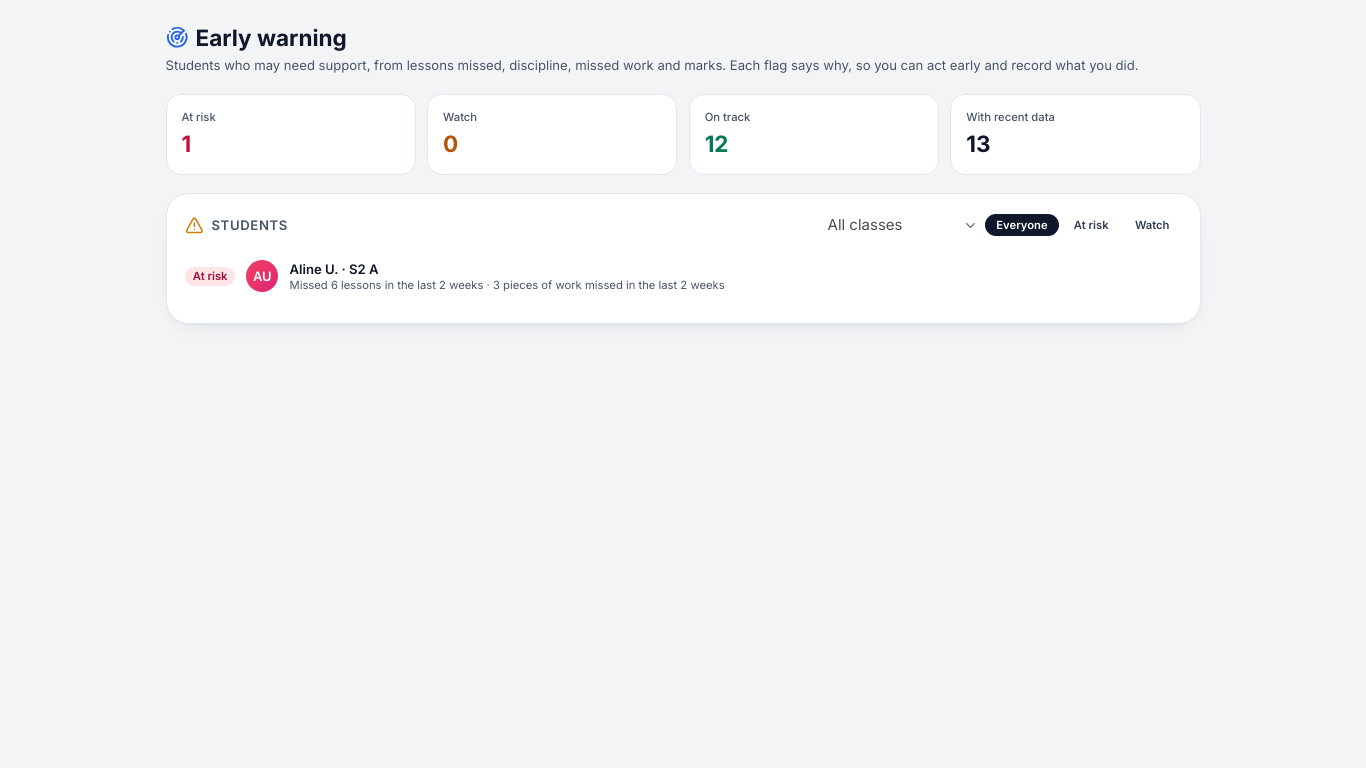
it: Early warning page › lists students with reasons, filters, opens one and records an action
This screenshot has width=1366, height=768.
Check: the list with test id "ew-rows" shows "Aline U. · S2 A", box [185,248,1181,305]
Check: the list with test id "ew-rows" shows "Missed 6 lessons in the last 2 weeks", box [185,248,1181,305]
Click the tab "At risk" at (1091,225), box [1063,214,1120,236]
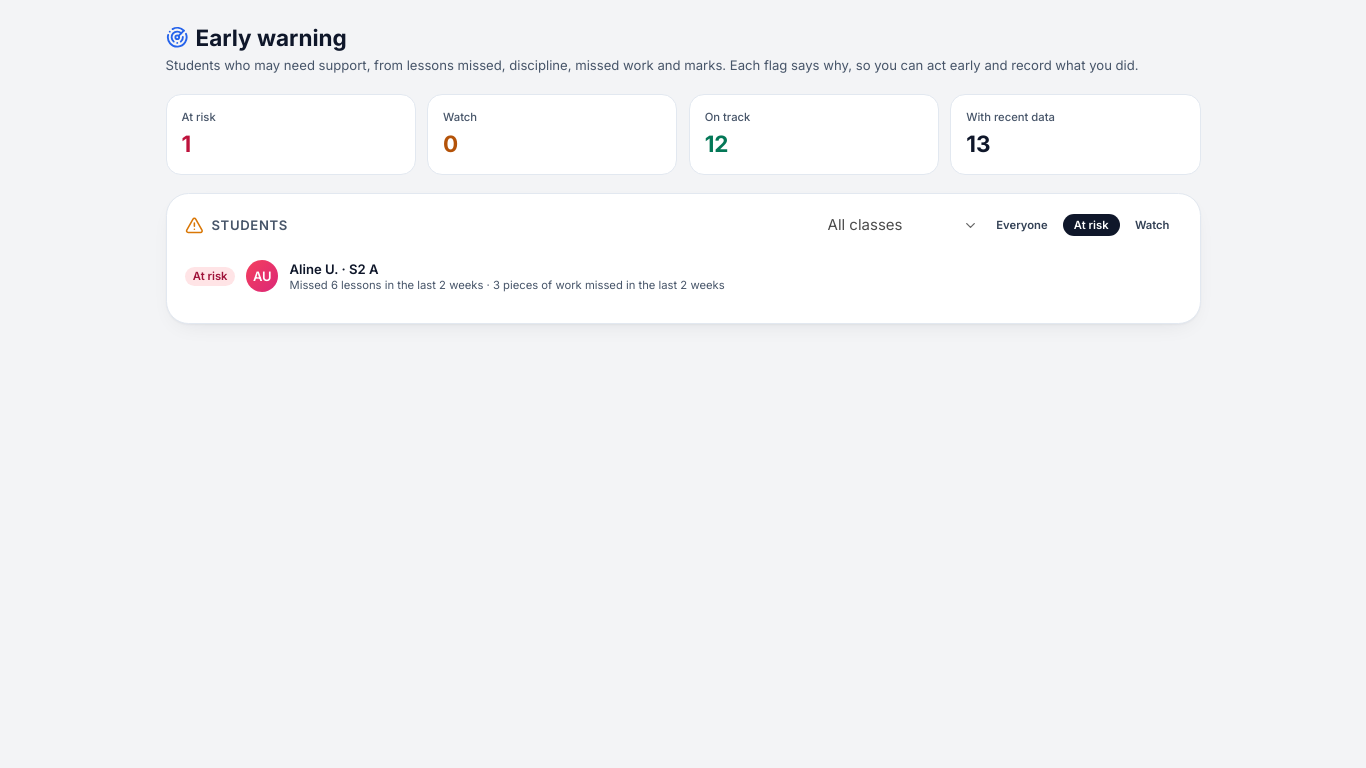
Click the button at (683,276), box [185,248,1181,305]
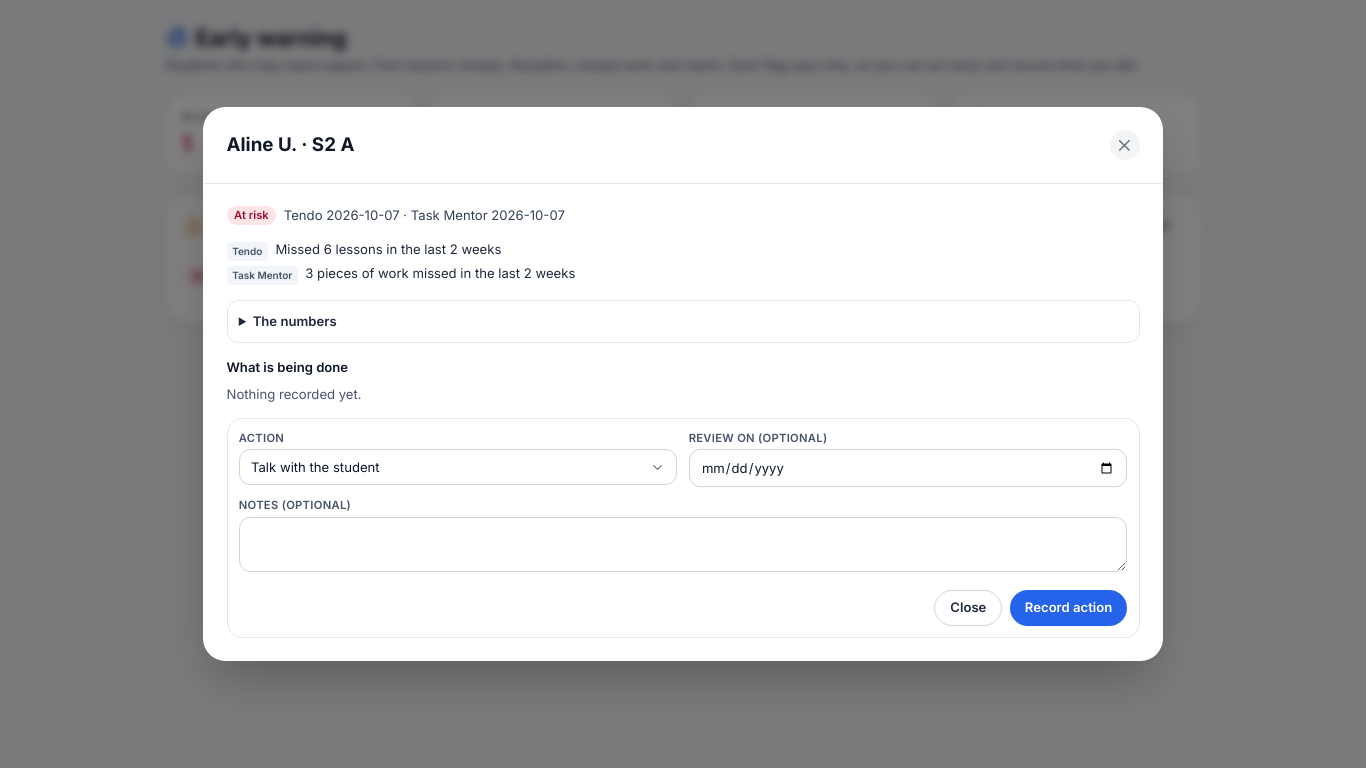
Select "Call the parent or guardian" in the dropdown with id "ew-action" at (262,438), box [239,430,284,444]
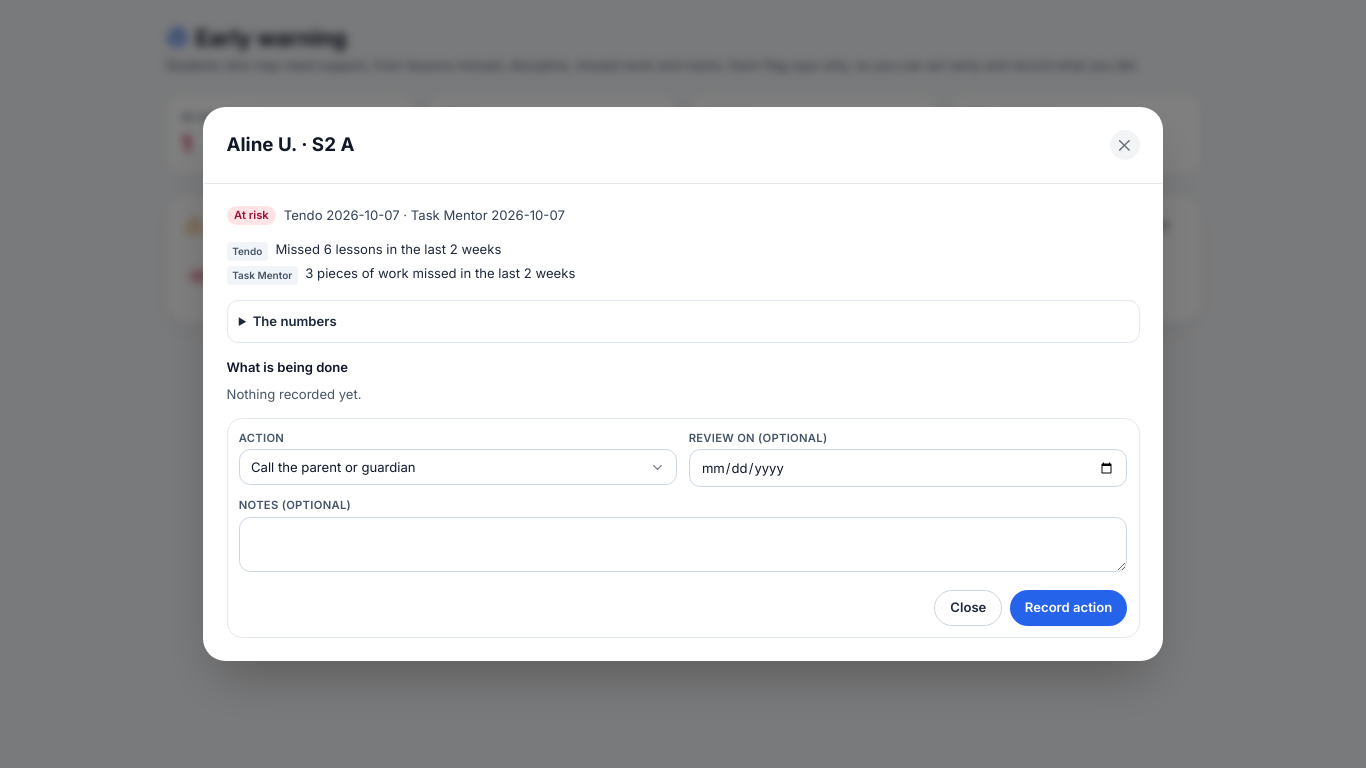
Type "About absences" into the text box labelled "Notes (optional)" at (683,544), box [239,517,1127,572]
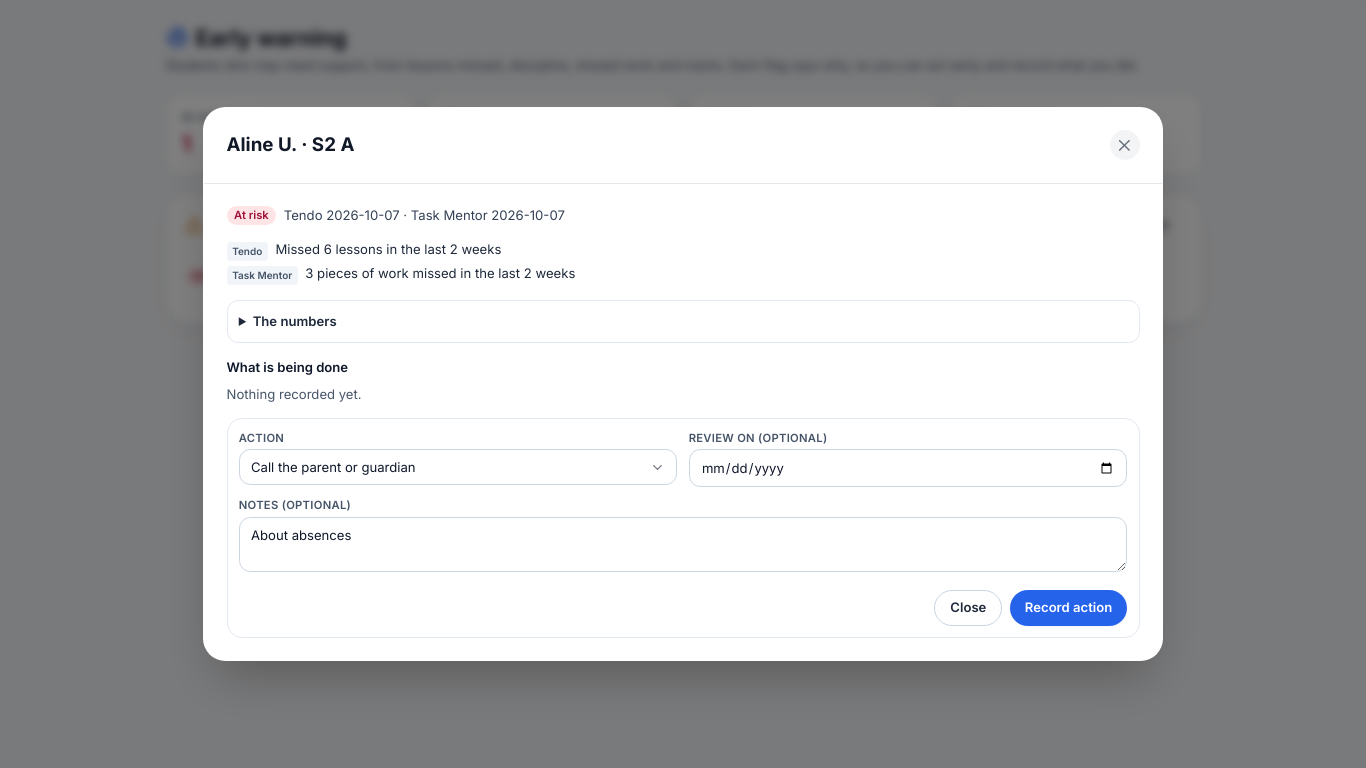
Type "2026-10-20" into the date field labelled "Review on (optional)" at (908,468), box [689,449,1127,487]
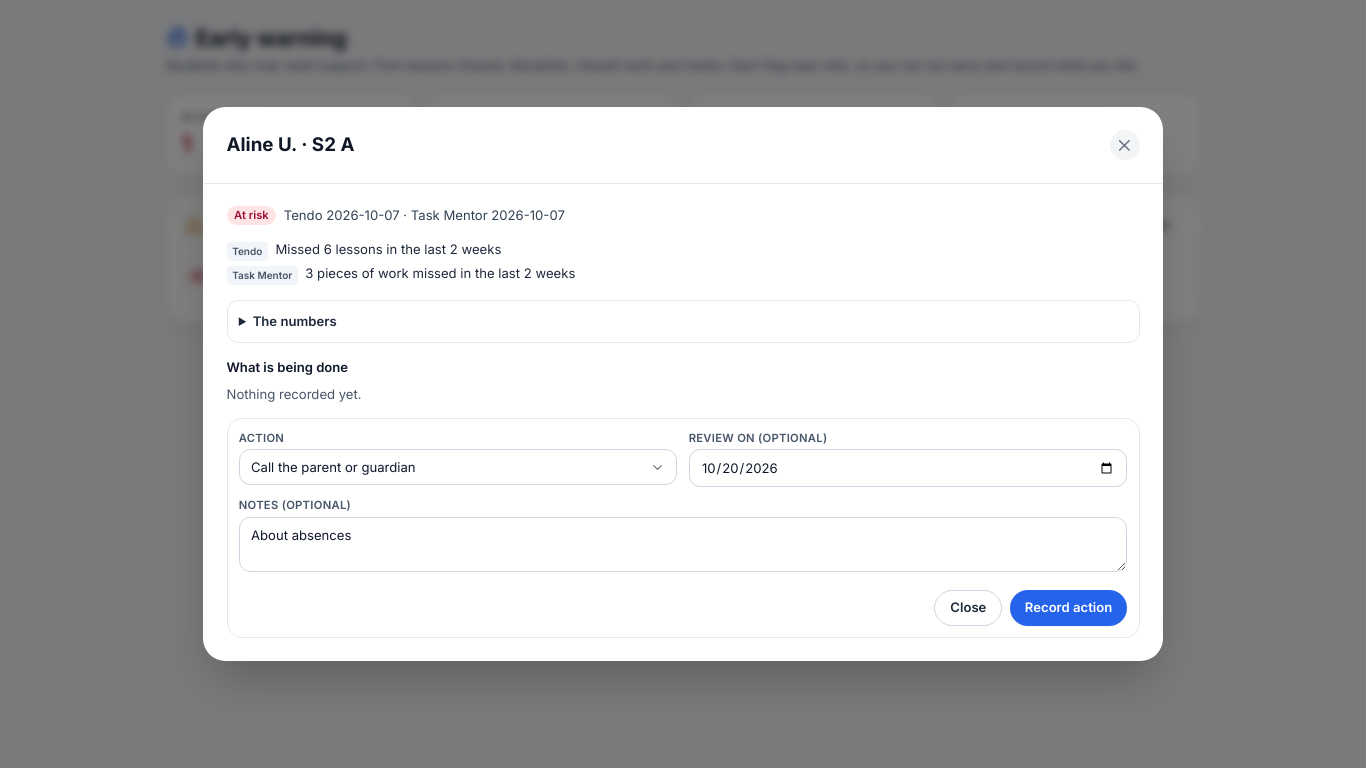
Click the button "Record action" at (1069,608), box [1010,590,1127,626]
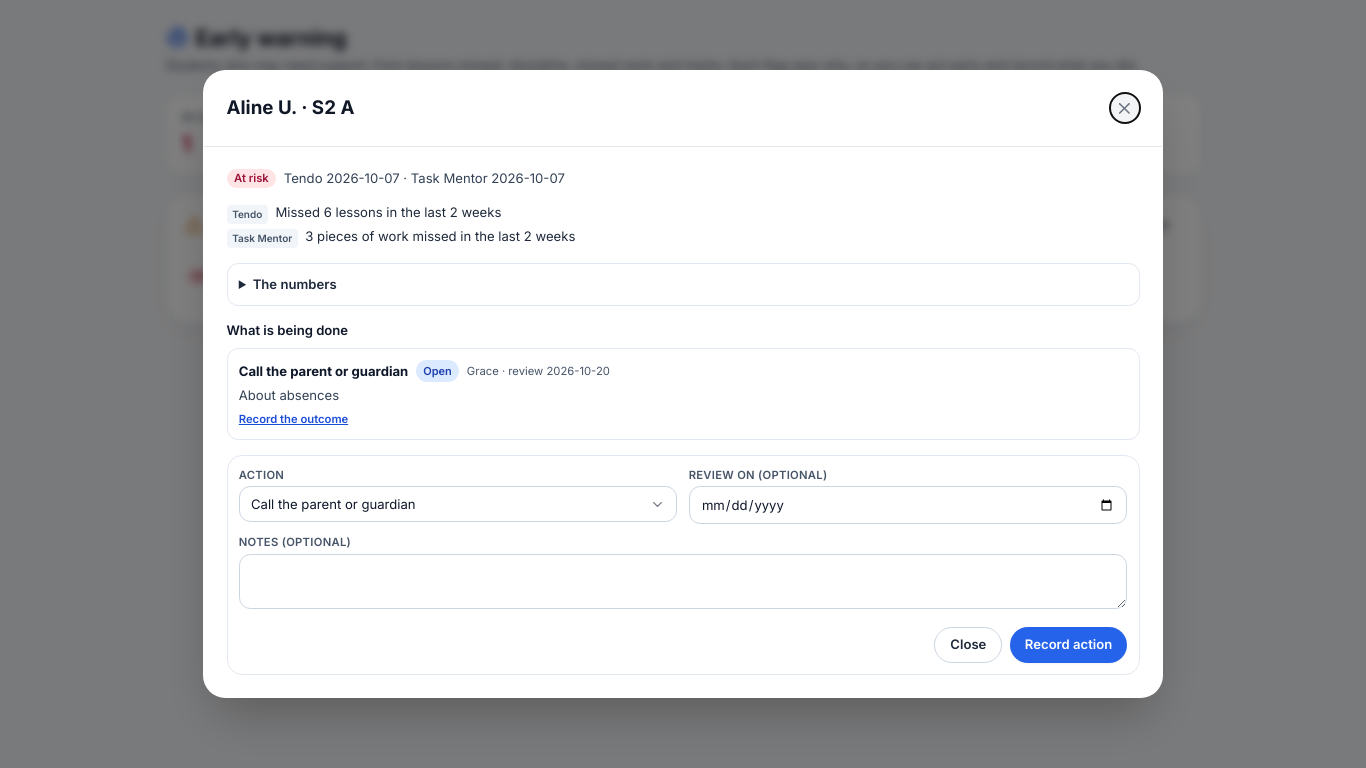
Check: the text "About absences" is shown, box [239,387,339,403]
Check: the element with test id "ew-student" shows "Grace · review 2026-10-20", box [226,169,1140,675]
